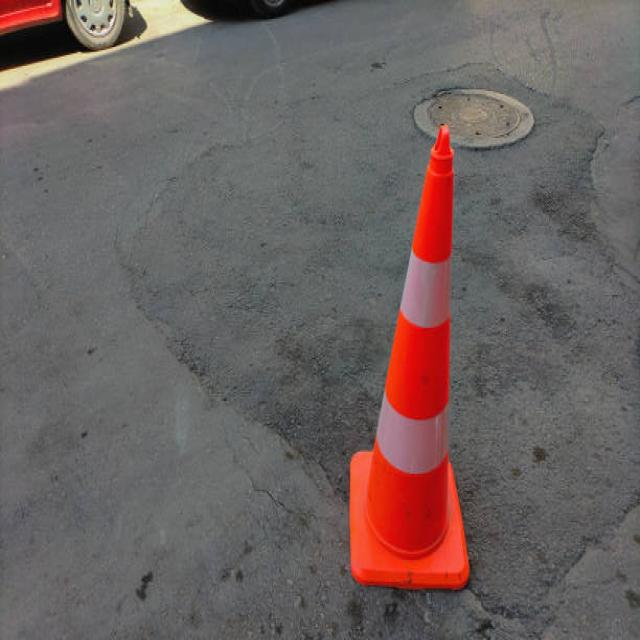Traffic Cone: (335, 105, 490, 608)
